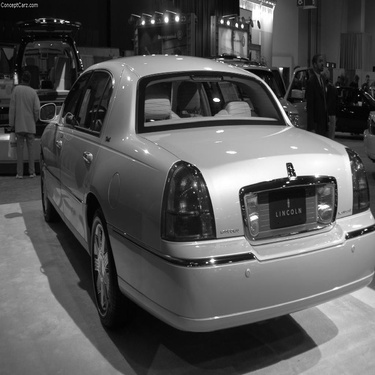car: (25, 58, 372, 340), (210, 47, 318, 131)
